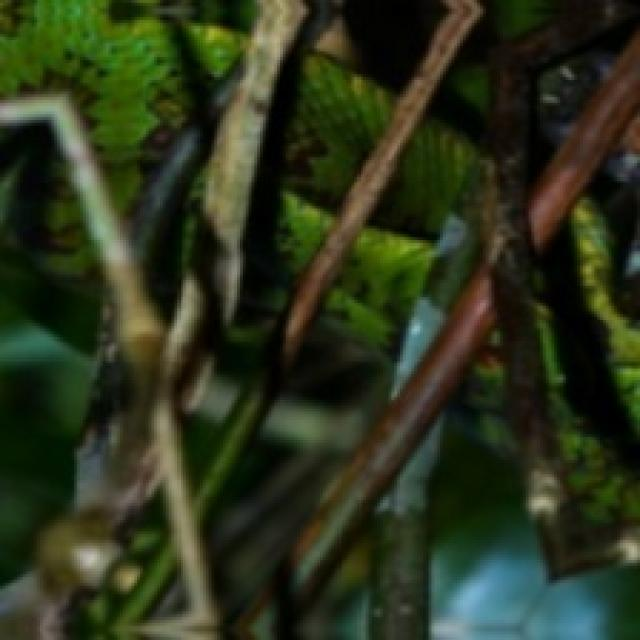philippine pitviper: (0, 0, 254, 212), (279, 54, 392, 277), (324, 225, 435, 348), (378, 120, 479, 236)
